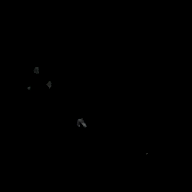v: (24, 65, 52, 90)
